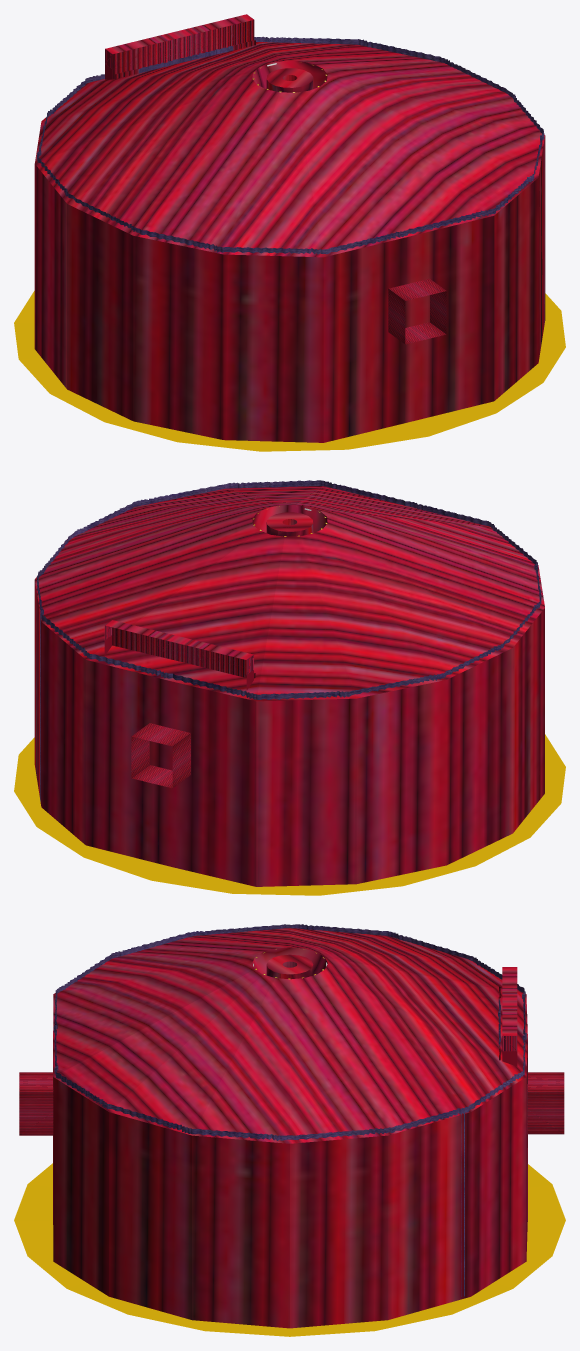
Rendered from Squid Game.fbx.
3 renders of one model, top to bottom at view 1: azimuth 30°, elevation 25°; view 2: azimuth 150°, elevation 25°; view 3: azimuth 270°, elevation 25°, orthographic.
Visible parts, largest first — view 1: Curve_stage_Bg_wall_0_1187, Curve_stage_Wall_golden_structure_0_1197, Curve_stage_Wall_red_wall_0_1212, entrance_curtains_purple_curtain_0_1201; view 2: Curve_stage_Bg_wall_0_1187, Curve_stage_Wall_golden_structure_0_1197, Curve_stage_Wall_red_wall_0_1212, entrance_curtains_purple_curtain_0_1201; view 3: Curve_stage_Bg_wall_0_1187, Curve_stage_Wall_golden_structure_0_1197, Curve_stage_Wall_red_wall_0_1212, entrance_curtains_purple_curtain_0_1201.
Boxes of the visible parts, box(x1,y1,x2,y2) form: Curve_stage_Bg_wall_0_1187: box(34, 40, 545, 442); Curve_stage_Wall_golden_structure_0_1197: box(14, 291, 565, 451); Curve_stage_Wall_red_wall_0_1212: box(105, 14, 446, 344); entrance_curtains_purple_curtain_0_1201: box(37, 36, 544, 254); Curve_stage_Bg_wall_0_1187: box(34, 486, 544, 886); Curve_stage_Wall_golden_structure_0_1197: box(14, 734, 565, 895); Curve_stage_Wall_red_wall_0_1212: box(104, 620, 253, 788); entrance_curtains_purple_curtain_0_1201: box(37, 480, 541, 801); Curve_stage_Bg_wall_0_1187: box(53, 928, 527, 1328); Curve_stage_Wall_golden_structure_0_1197: box(14, 1163, 565, 1336); Curve_stage_Wall_red_wall_0_1212: box(19, 967, 564, 1135); entrance_curtains_purple_curtain_0_1201: box(53, 924, 526, 1296).
Size of the model in its own units: 7242 by 3817 by 7242.
